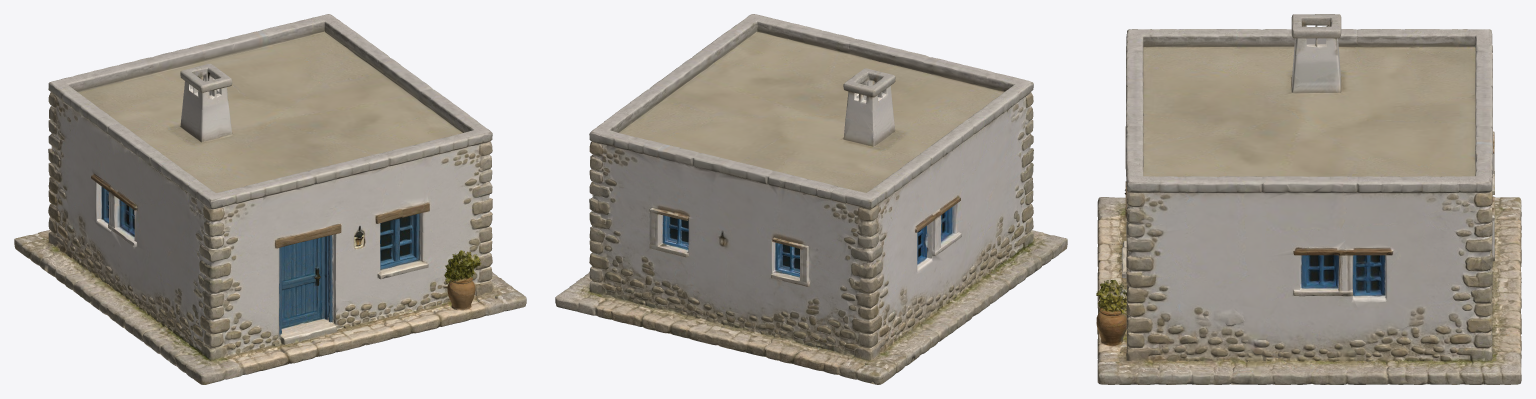
File: house__kalliope-house.glb
The picture shows the model from 3 angles, left to right: view 1: azimuth 30°, elevation 25°; view 2: azimuth 150°, elevation 25°; view 3: azimuth 270°, elevation 25°; orthographic projection. The views are drawn at different scales.
Size of the model in its own units: 1.88 by 1.18 by 1.89.
Materials: 1 (1 with a texture image).
